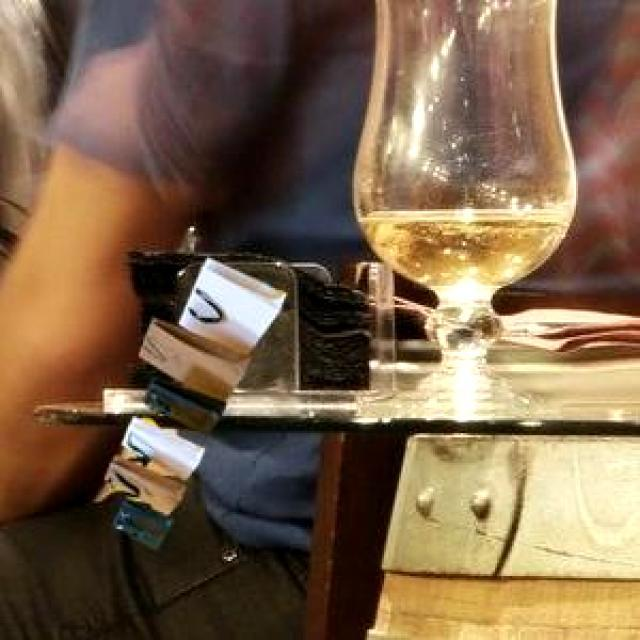Paper_Bag: (101, 255, 283, 548)
